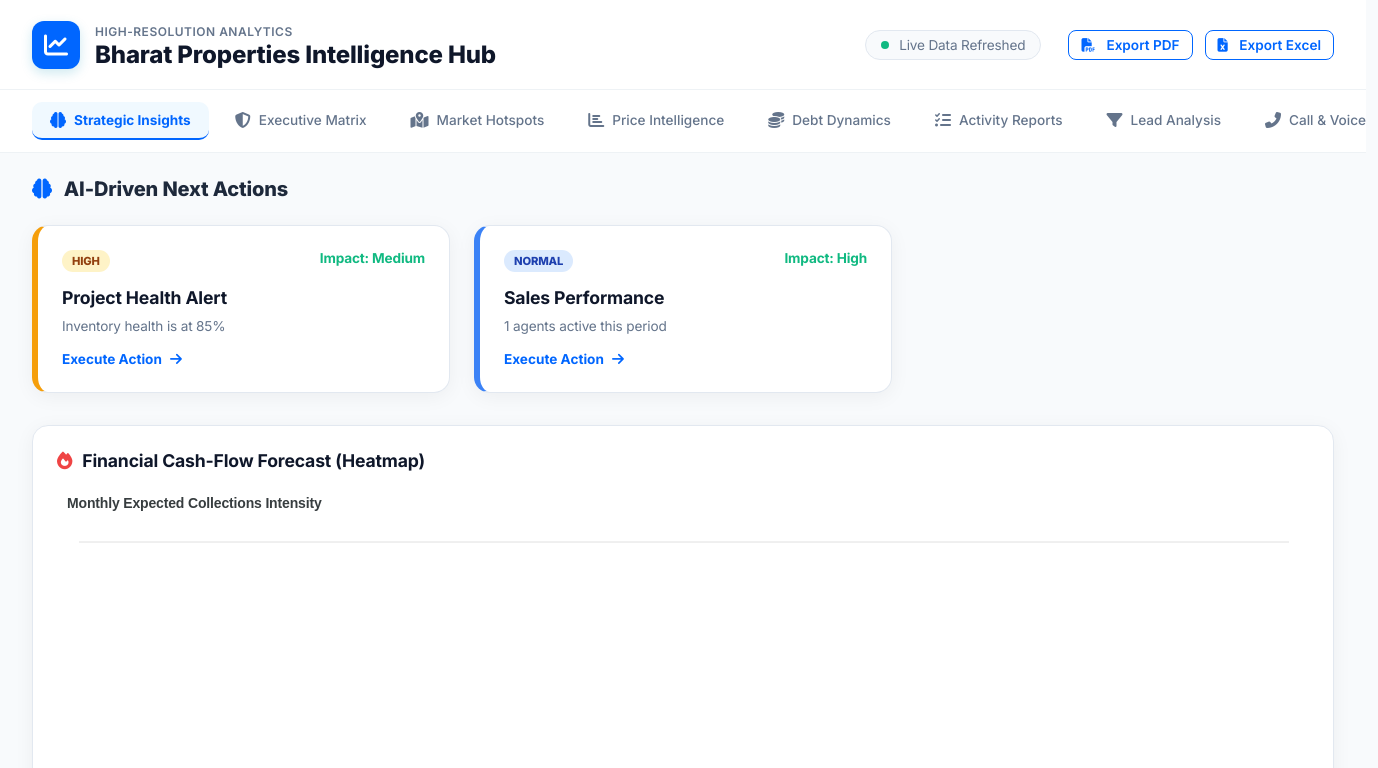
it: ReportsPage with DataTable (Phase 10.21) › security audit: table renders zero secrets, tokens, passwords, or credentials
Click the button "Price Intelligence": [656, 121] box [570,102,742,140]
(page scrolled)
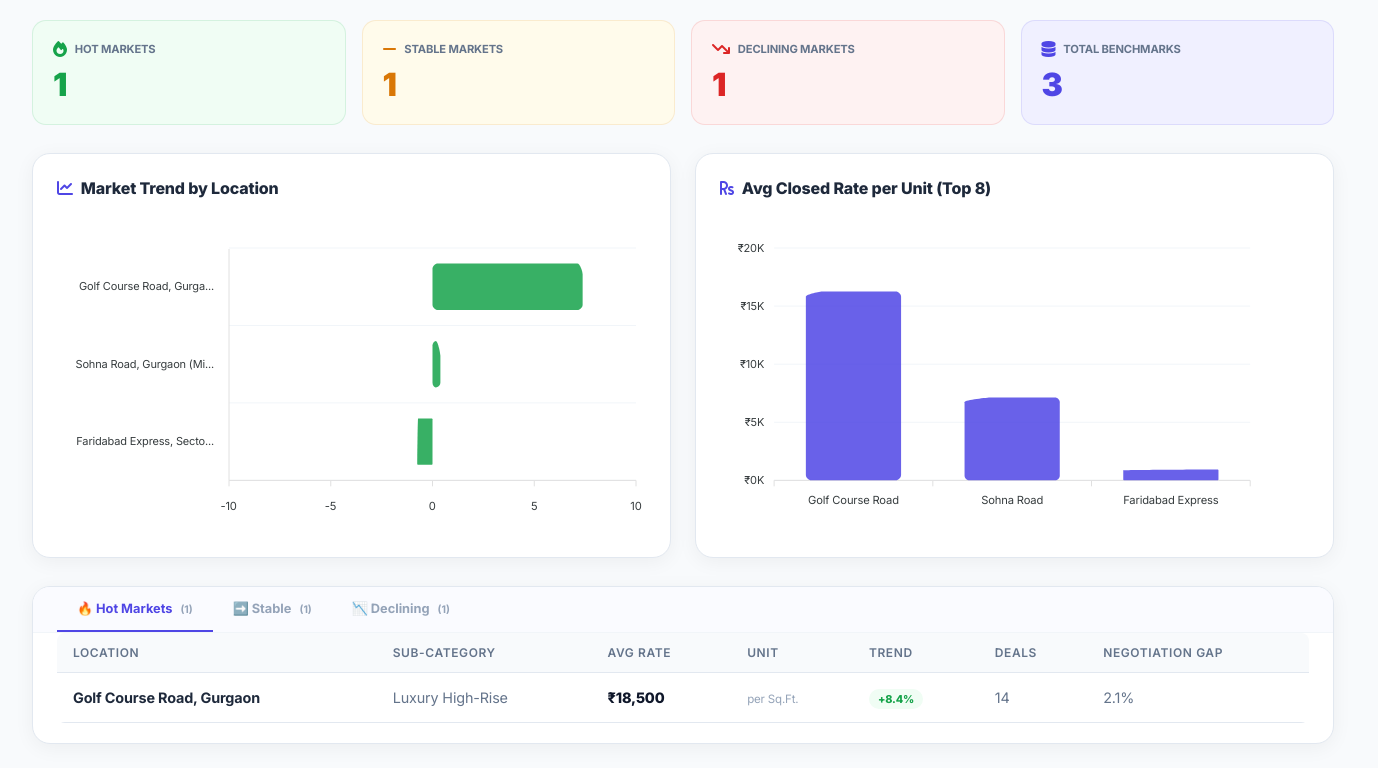
Expected: the text "Golf Course Road, Gurgaon" is shown, [73,689,260,706]
